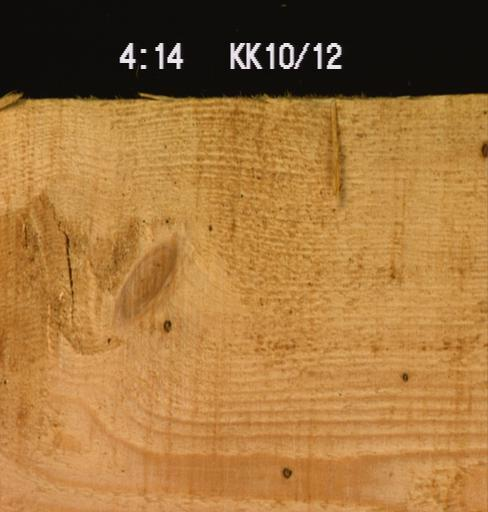dry_knot: (159, 314, 173, 334), (475, 136, 487, 159), (278, 463, 292, 479)
small_knot: (397, 369, 410, 382)
split: (36, 188, 81, 330), (16, 208, 32, 252)
